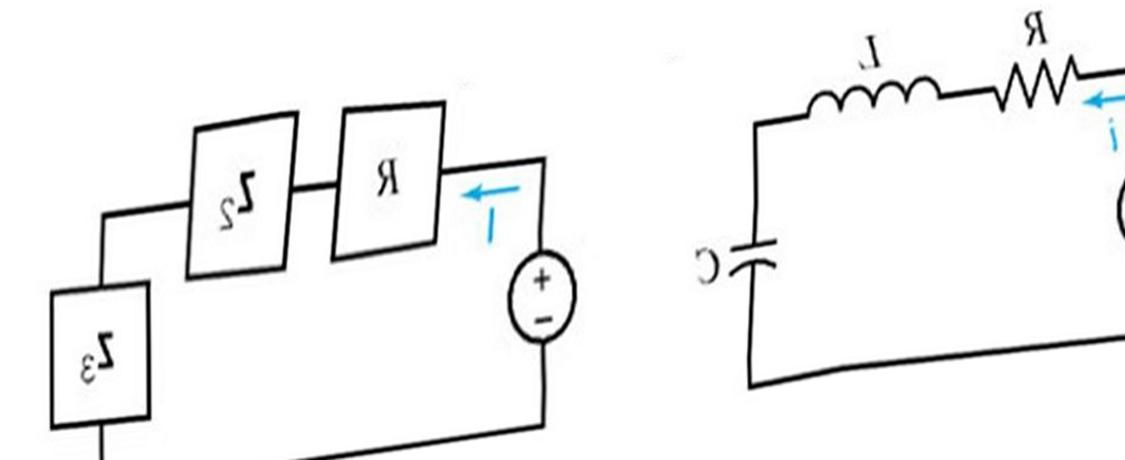Battery: (480, 230, 596, 378)
